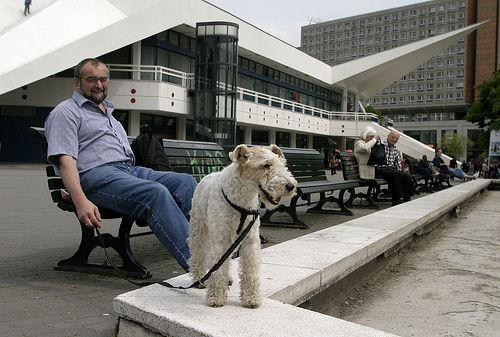wire-haired_fox_terrier: (186, 140, 298, 312)
